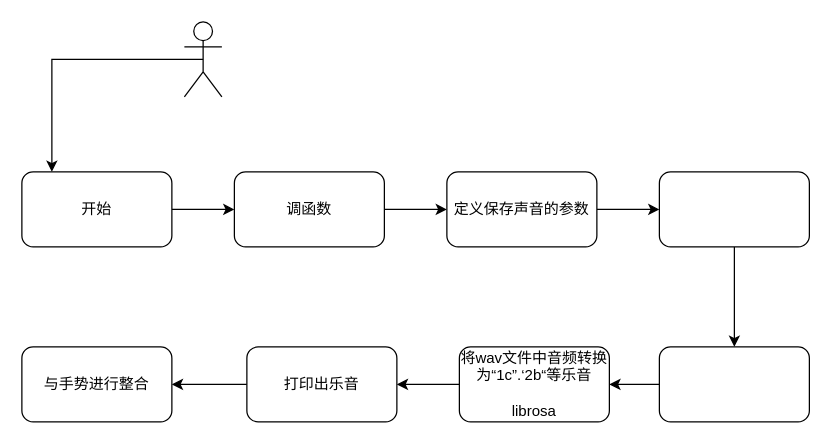
Image size: 831x444. Some labels were removed from this diagram. The centre of each missing label's shape, as x and y in pixels:
"Actor" belongs at point 202,59.
"将音频保存为wav文件 PyAudio, wave, np" belongs at point 733,384.
"录音" belongs at point 733,209.
